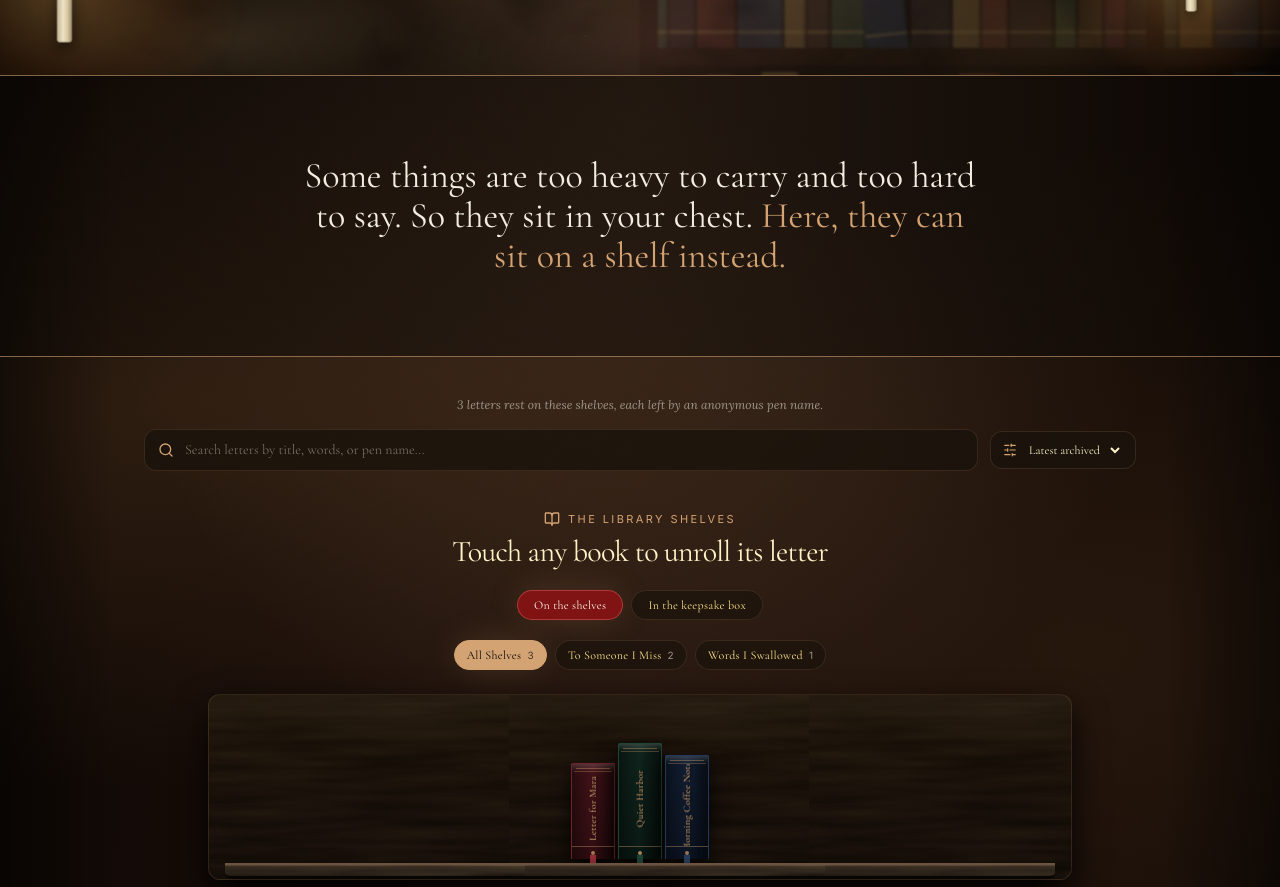
Test: PublicFeedPage search and sort (R7) › shows a no-results message distinct from the empty bookshelf state
The width and height of the screenshot is (1280, 887).
(page scrolled)
Expected: the text "Letter for Mara" is shown, top-left (586, 776), bottom-right (598, 841)
Type "zzzzz" into the field labelled "Search letters by title, words, or pen name...".
click(561, 450); type("zzzzz")  # box top-left (144, 429), bottom-right (978, 471)
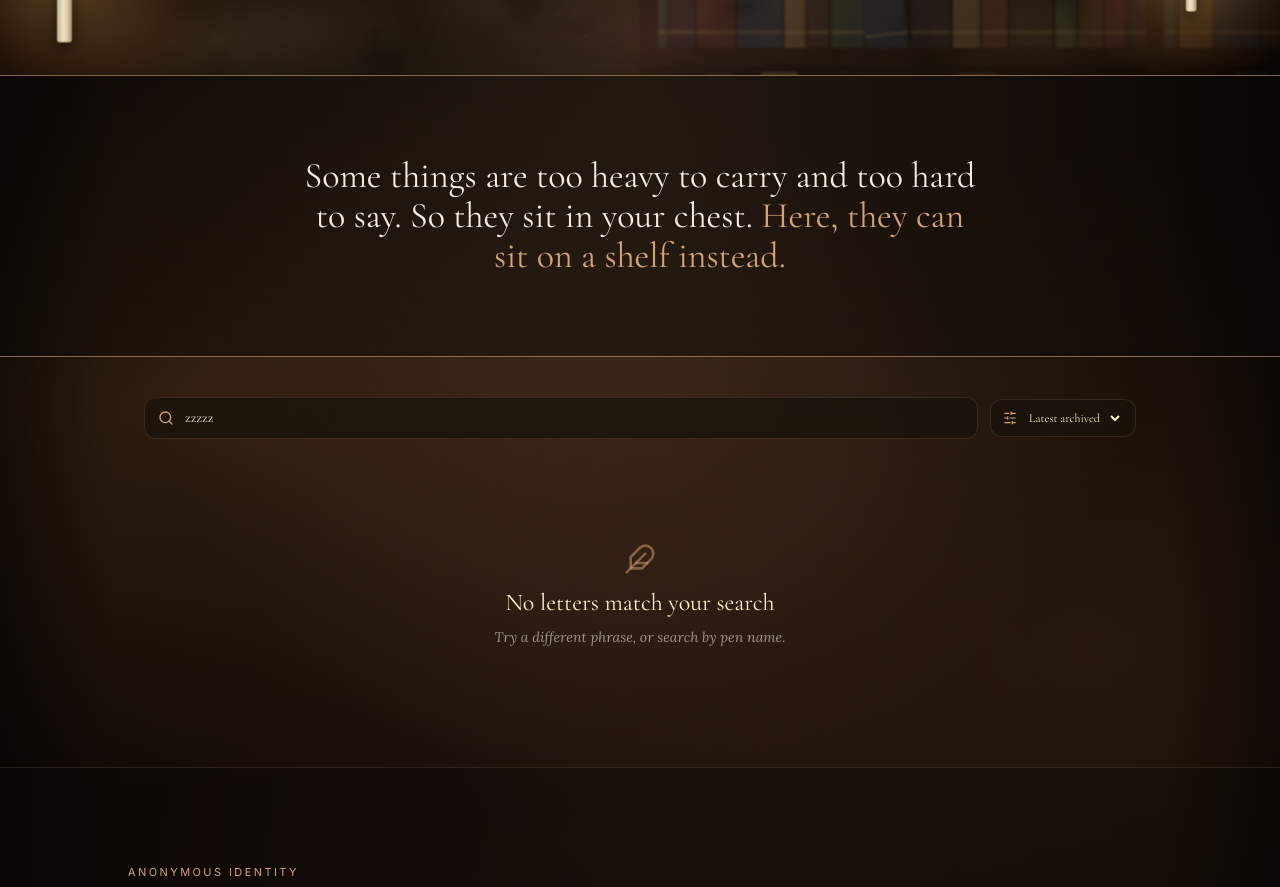
Expected: the heading "No letters match your search" is shown, top-left (505, 588), bottom-right (775, 617)
